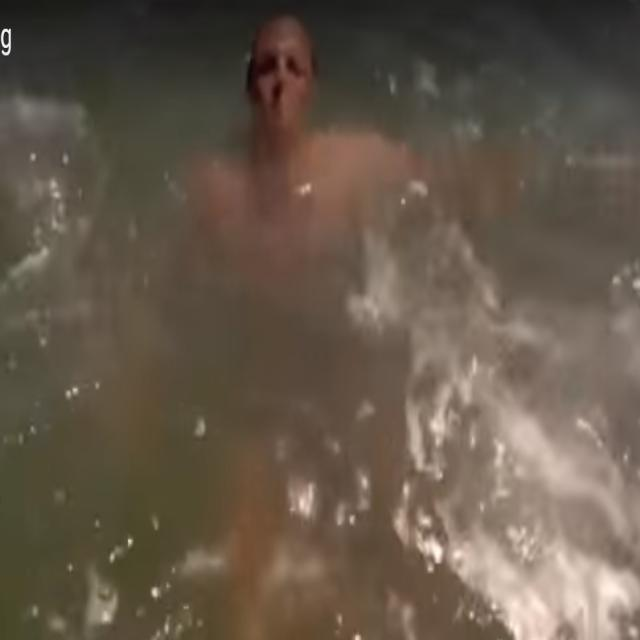drowning: (238, 0, 338, 174)
